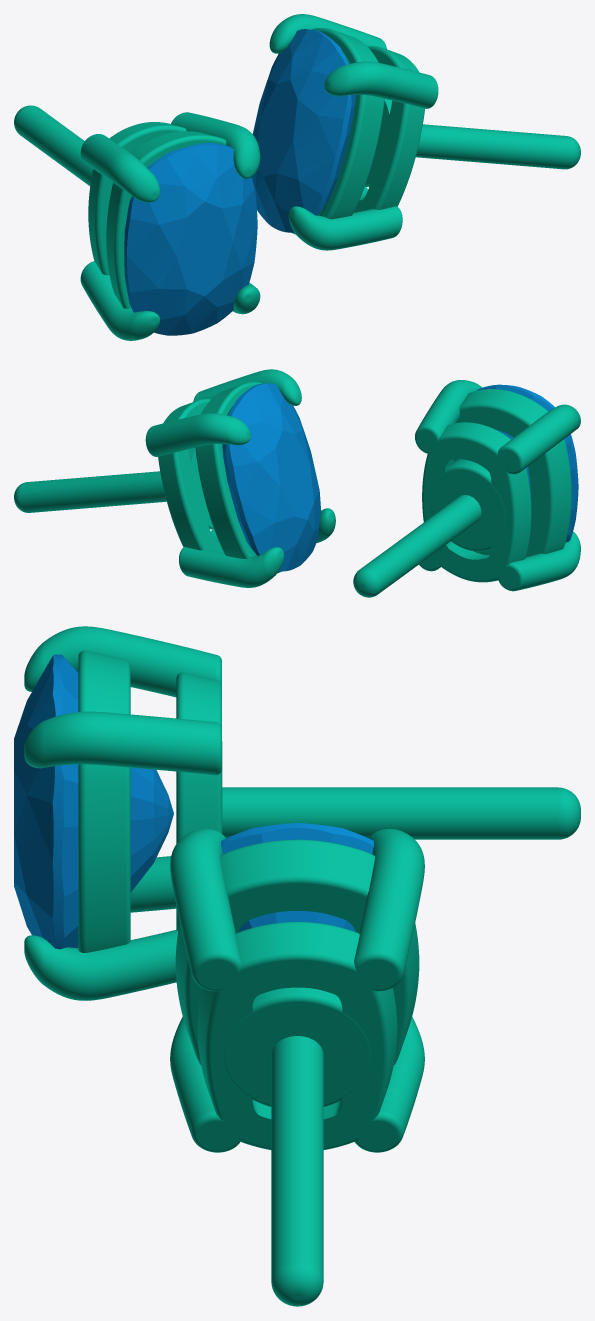
3 renders of one model, top to bottom at view 1: azimuth 30°, elevation 25°; view 2: azimuth 150°, elevation 25°; view 3: azimuth 270°, elevation 25°, orthographic. The views are drawn at different scales.
Visible parts, largest first — view 1: Diamond_Cushion (×2), Head Prong (×7), Bezel (×4), VR083 EAR.3dm; view 2: Bezel (×4), Head Prong (×7), Diamond_Cushion (×2), VR083 EAR.3dm; view 3: Bezel (×4), Head Prong (×8), VR083 EAR.3dm, Diamond_Cushion (×2).
Part boxes in pixels (<box>): Diamond_Cushion (×2): <box>124,29,355,335</box>; Head Prong (×7): <box>80,14,438,340</box>; Bezel (×4): <box>88,28,424,308</box>; VR083 EAR.3dm: <box>14,99,580,186</box>; Bezel (×4): <box>158,382,571,582</box>; Head Prong (×7): <box>145,369,580,591</box>; Diamond_Cushion (×2): <box>222,383,578,571</box>; VR083 EAR.3dm: <box>14,448,505,597</box>; Bezel (×4): <box>78,650,419,1149</box>; Head Prong (×8): <box>24,626,424,1152</box>; VR083 EAR.3dm: <box>222,741,580,1306</box>; Diamond_Cushion (×2): <box>14,654,373,949</box>.
Bounding box in the file's own units: 3.31 × 1.13 × 1.94.
